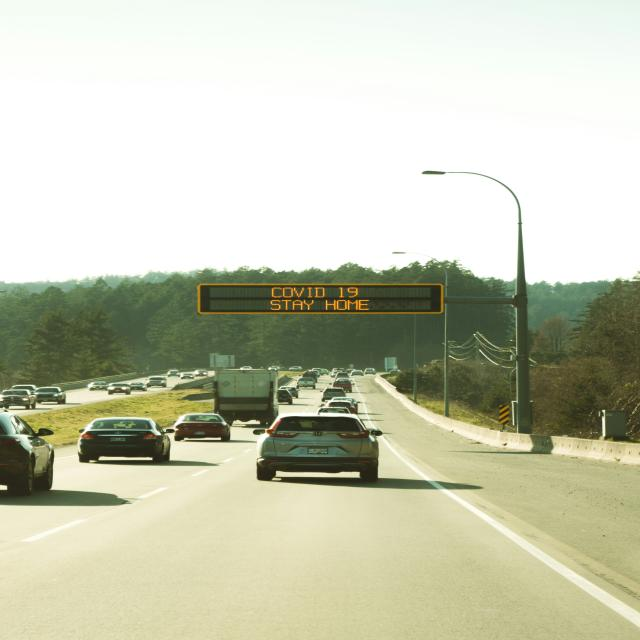Ad-signs: (196, 282, 444, 315)
Car: (252, 413, 383, 482), (0, 410, 55, 496), (78, 417, 174, 463), (172, 413, 230, 442), (0, 389, 36, 409), (33, 387, 66, 404), (322, 387, 346, 402), (107, 382, 131, 394), (276, 389, 293, 404), (146, 376, 167, 387), (279, 387, 299, 398), (11, 384, 36, 392), (297, 378, 316, 388), (88, 382, 108, 391), (129, 382, 147, 391), (180, 372, 194, 379), (194, 370, 208, 376), (167, 370, 179, 376), (239, 366, 252, 371)
Truck: (214, 368, 280, 426)
